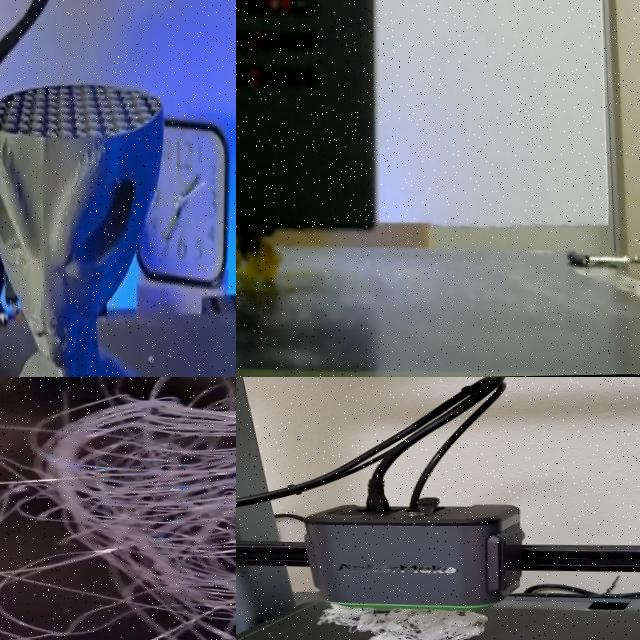spaghetti: (0, 377, 236, 640), (317, 600, 498, 640), (236, 236, 281, 289)
